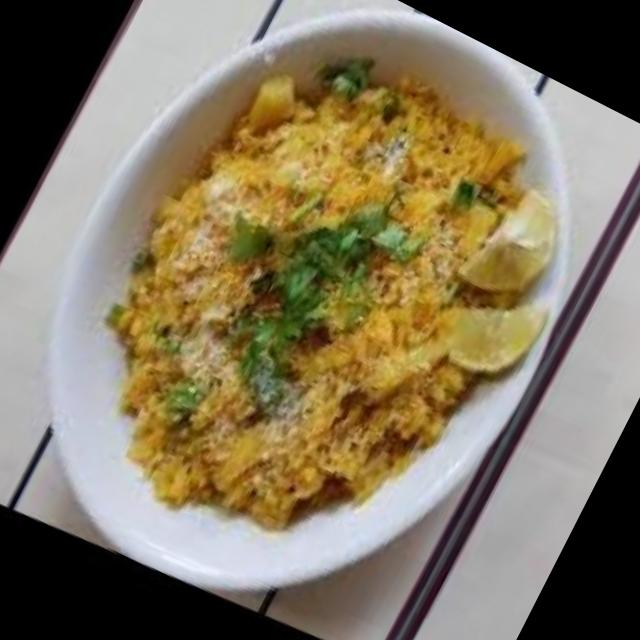poha: (22, 0, 593, 625)
